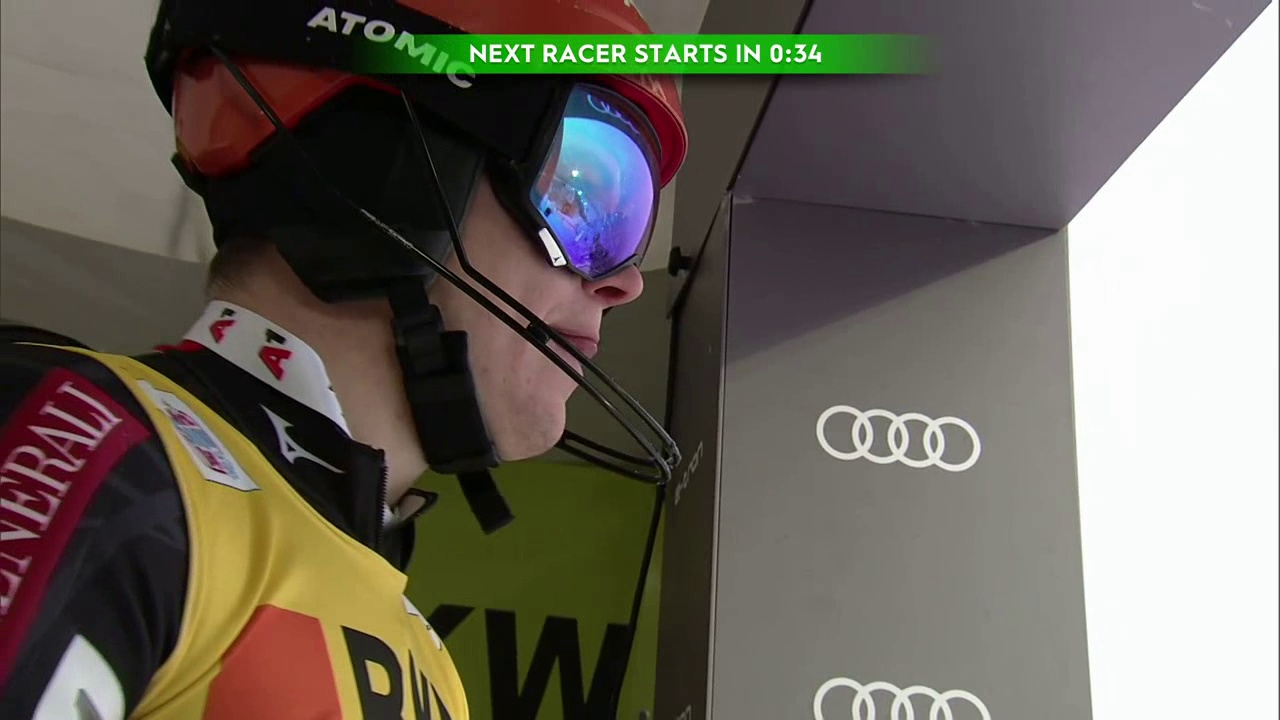a1: (255, 330, 295, 384), (207, 306, 245, 346)
audi: (814, 408, 981, 477), (811, 677, 1005, 719)
